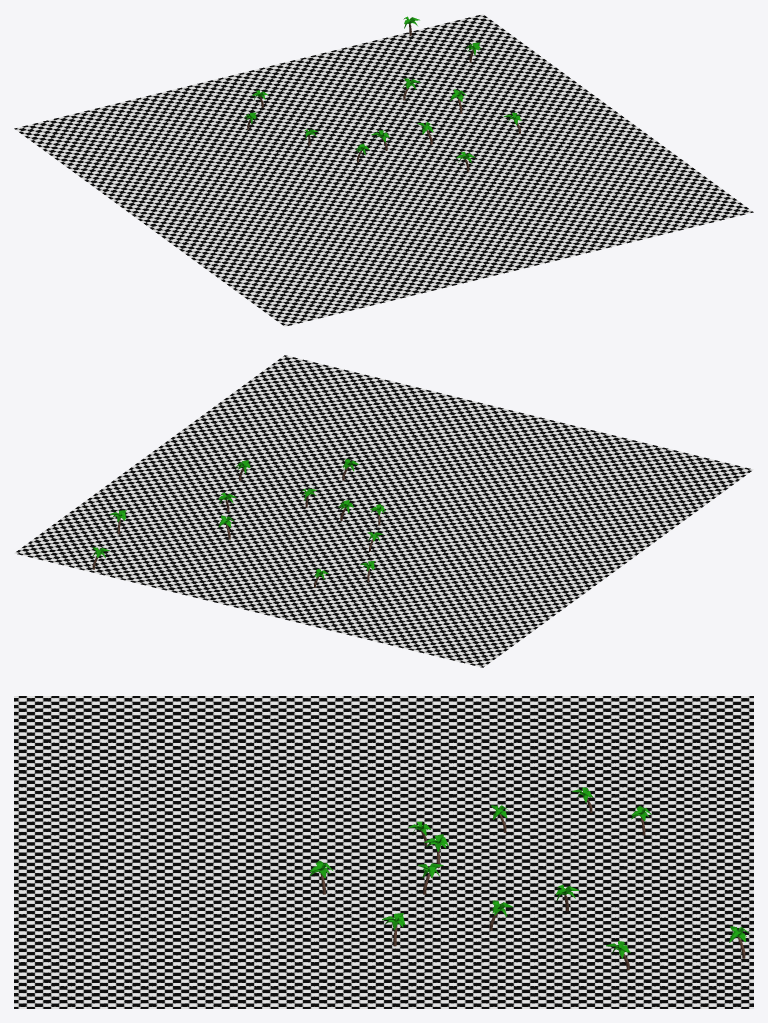
File: Vaporwave_Palms.glb
3 renders of one model, top to bottom at view 1: azimuth 30°, elevation 25°; view 2: azimuth 150°, elevation 25°; view 3: azimuth 270°, elevation 25°, orthographic. The views are drawn at different scales.
Visible parts, largest first — view 1: GridPlane; view 2: GridPlane; view 3: GridPlane.
Part boxes in pixels (x1,y1,x2,y2): GridPlane: (14, 14, 753, 326); GridPlane: (14, 355, 753, 667); GridPlane: (14, 696, 753, 1008).
Size of the model in its own units: 96 by 4.1 by 96.
3 materials, 1 textured.
